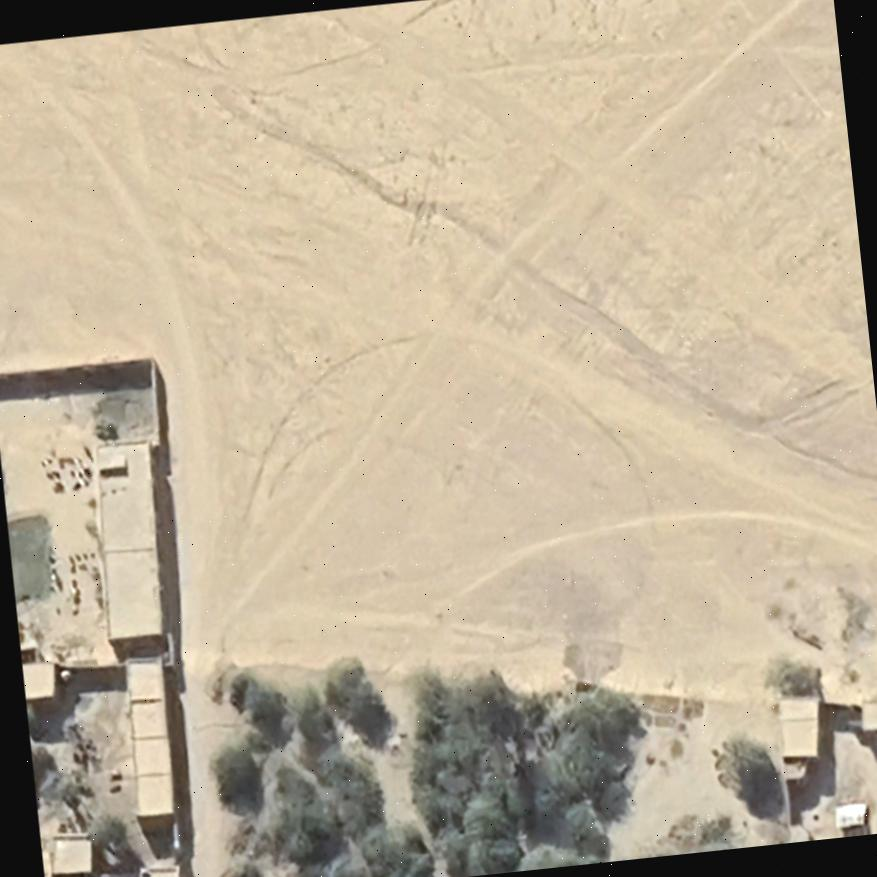Solarpanel: (832, 797, 875, 831)
